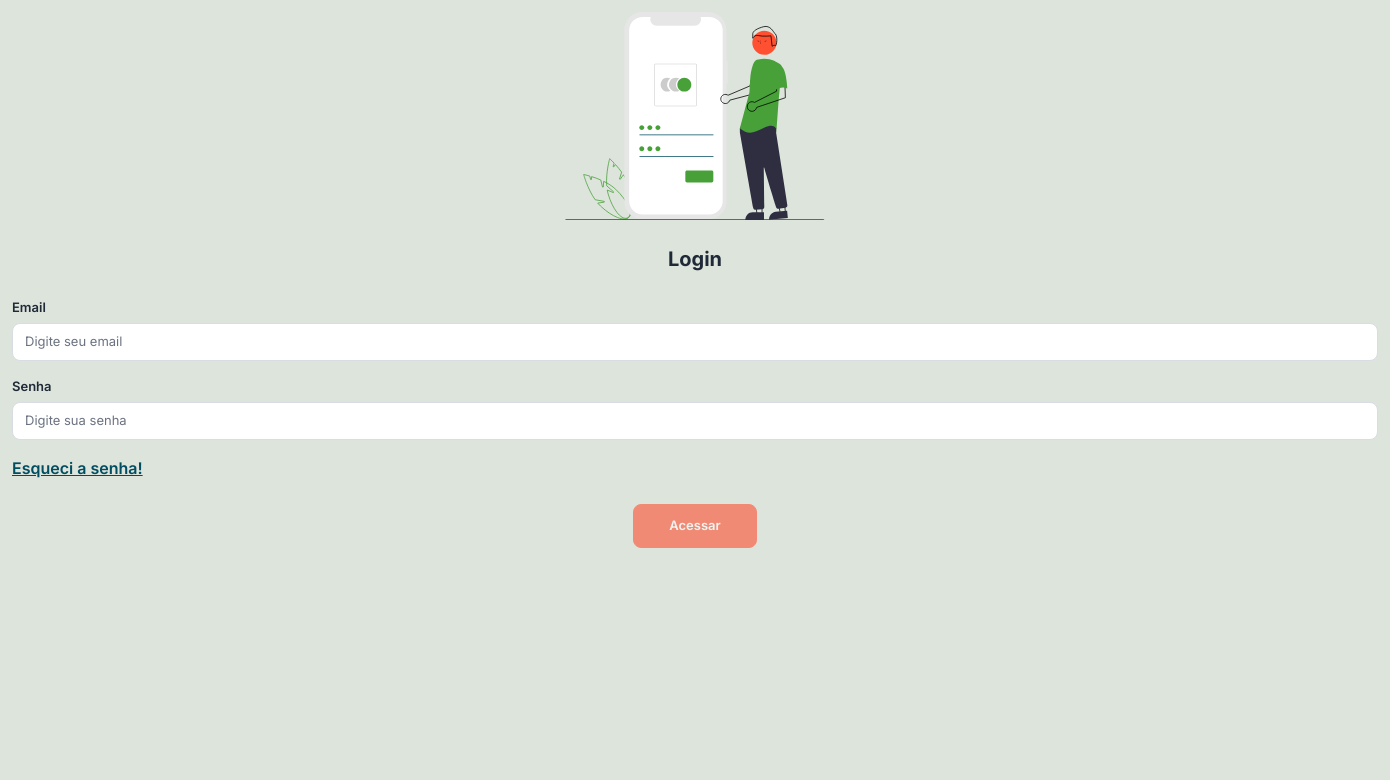
Test: LoginForm › usa mensagem segura quando a falha não contém resposta da API
The image size is (1390, 780).
Type "user@mail.com" into the field labelled "Email". click: (695, 342)
box: [12,323,1378,361]
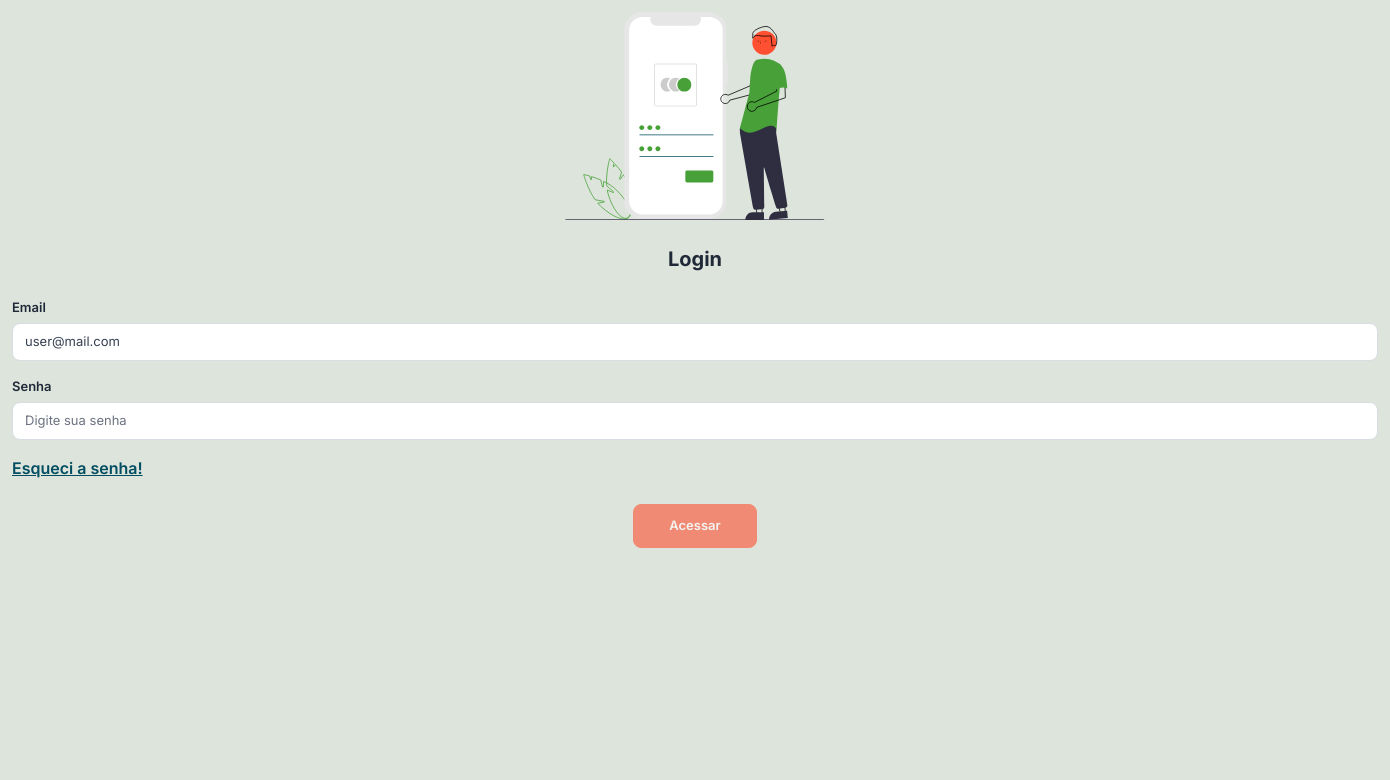
Type "12345678" into the password field labelled "Senha". click: (695, 421)
box: [12,402,1378,440]
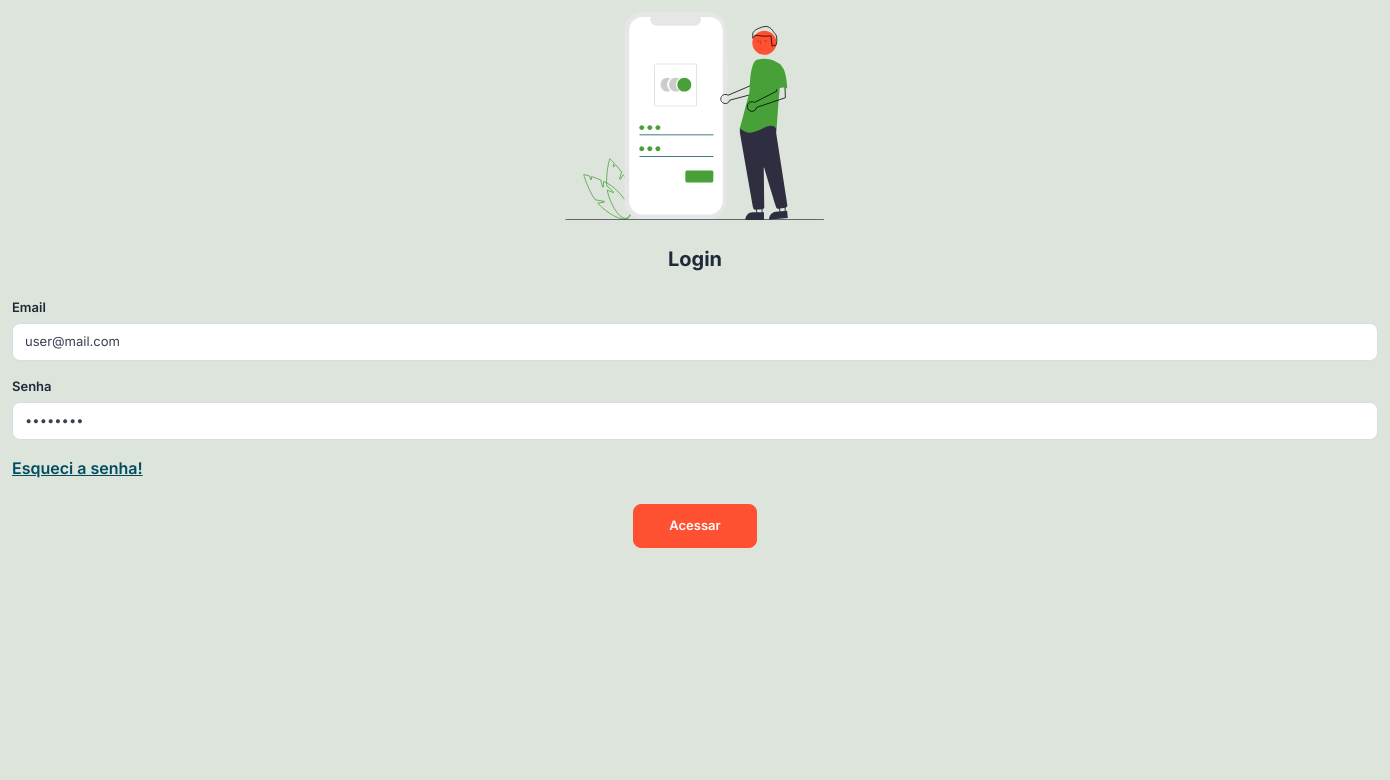
Click the button "Acessar". click: (695, 526)
box: [633,504,757,548]
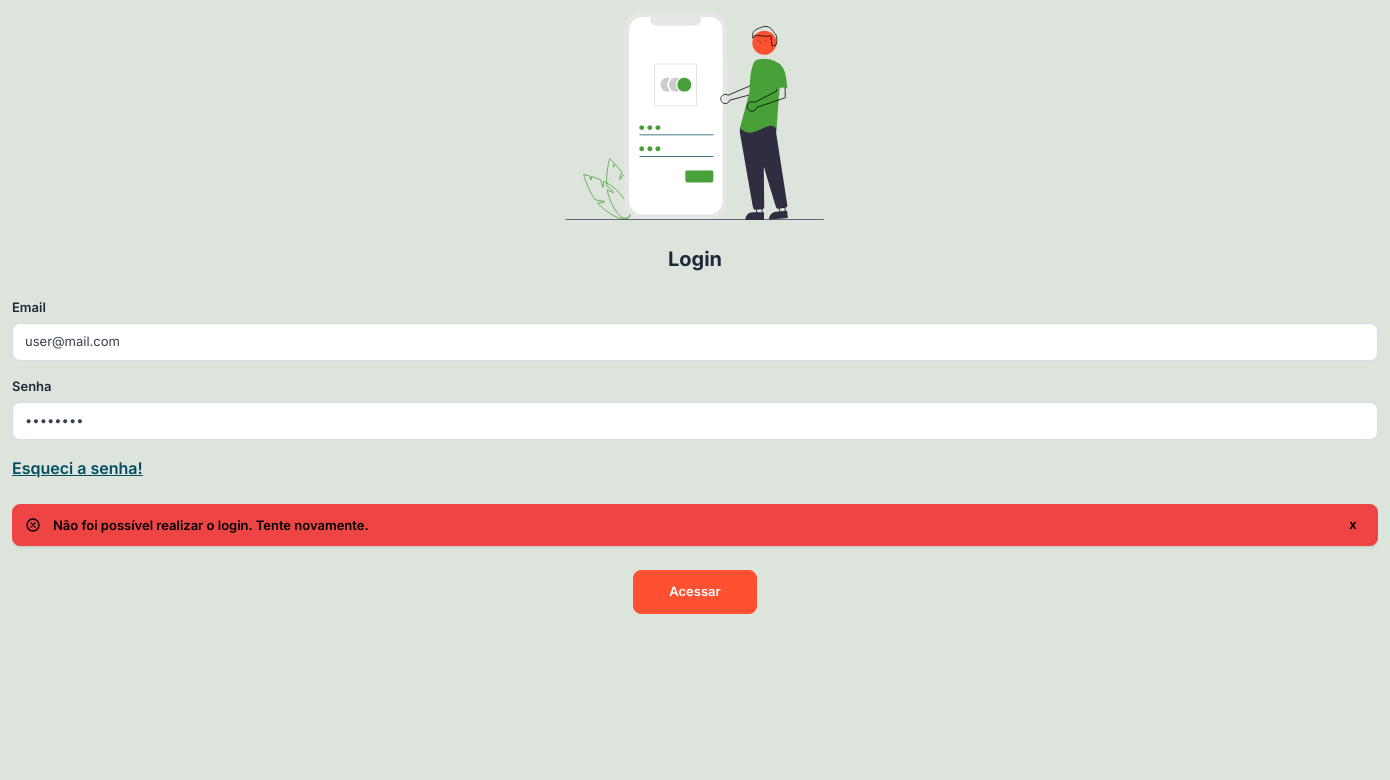
Expected: the message shows "Não foi possível realizar o login. Tente novamente.", [53,517,369,533]
